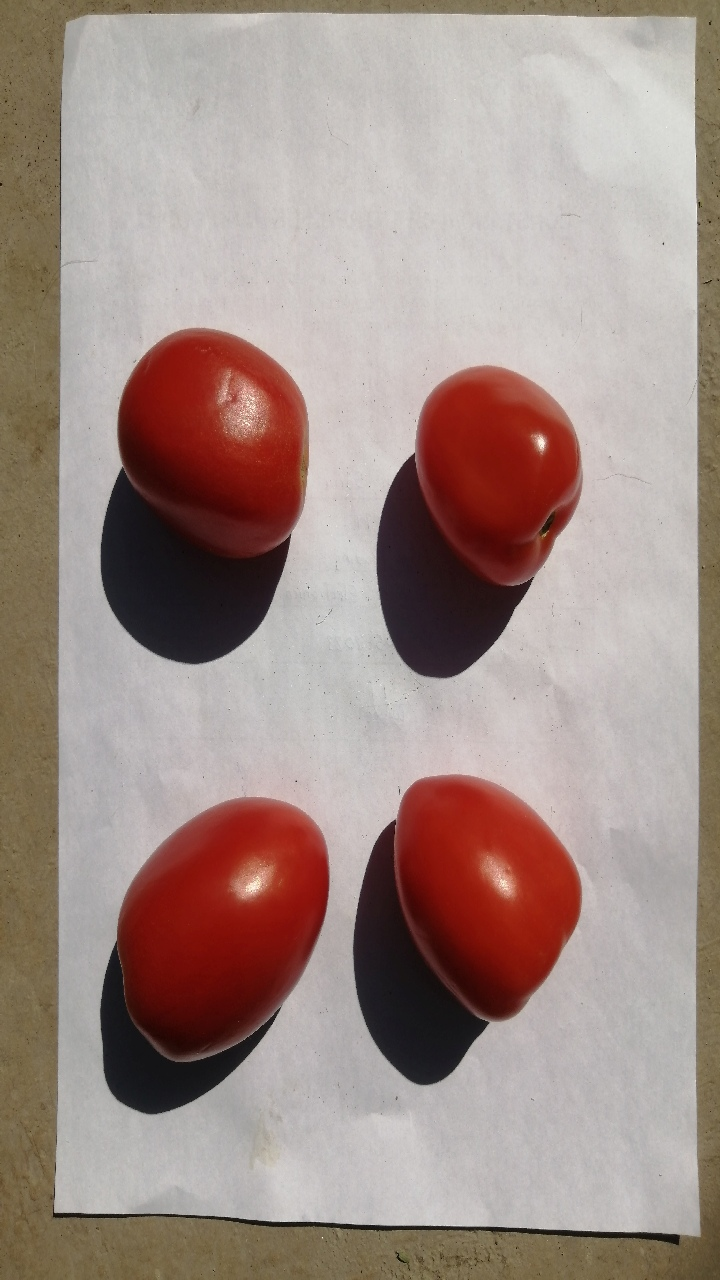tomateRojo: (92, 768, 340, 1102), (357, 755, 592, 1051), (374, 329, 604, 620), (98, 306, 337, 580)
